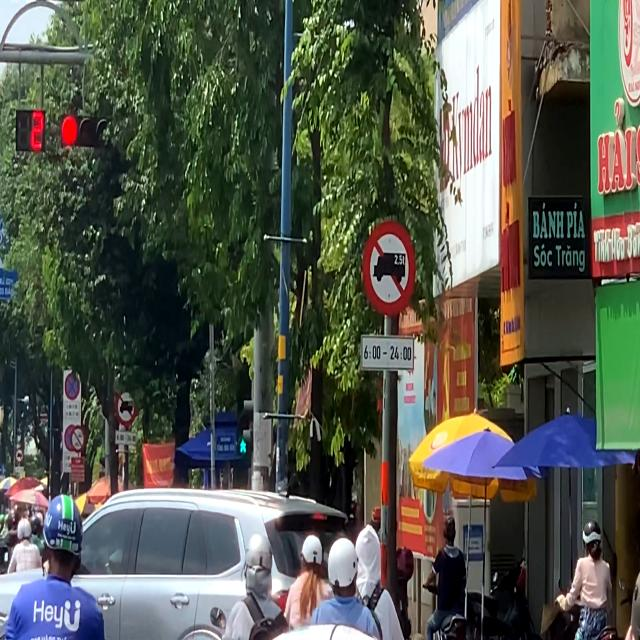P.106b: (362, 219, 416, 316), (115, 387, 137, 427)
P.130: (65, 372, 80, 400)
